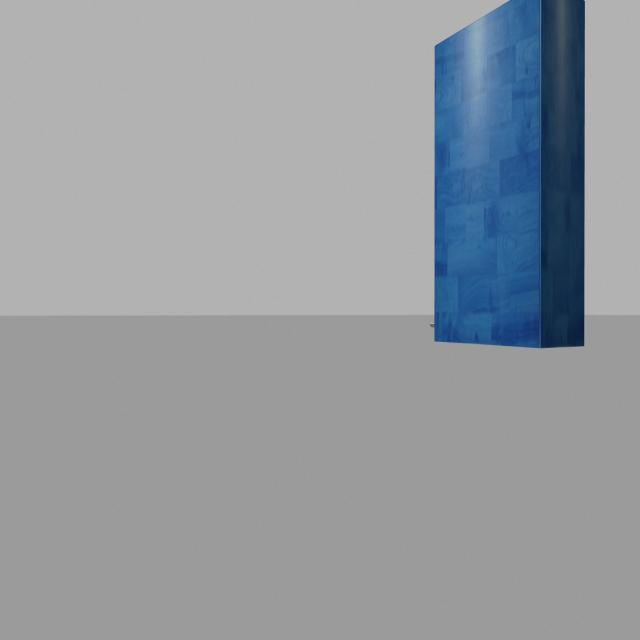bowl: (426, 318, 436, 331)
shelf: (435, 0, 594, 355)
